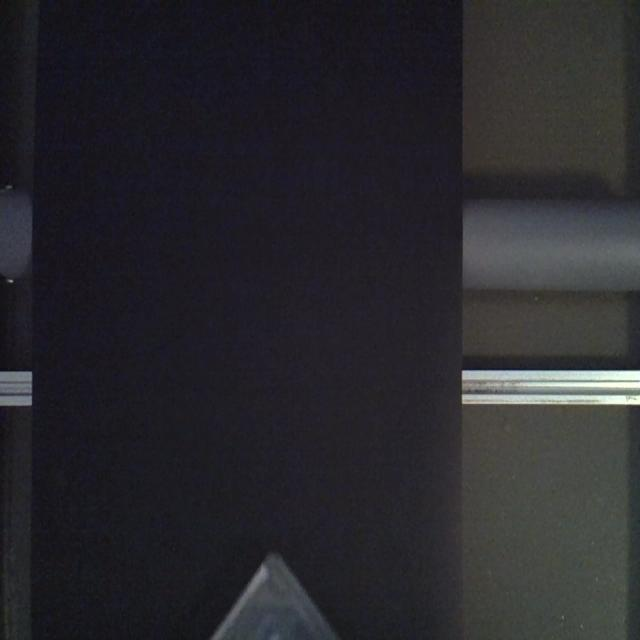mixed-plastics: (208, 549, 340, 639)
